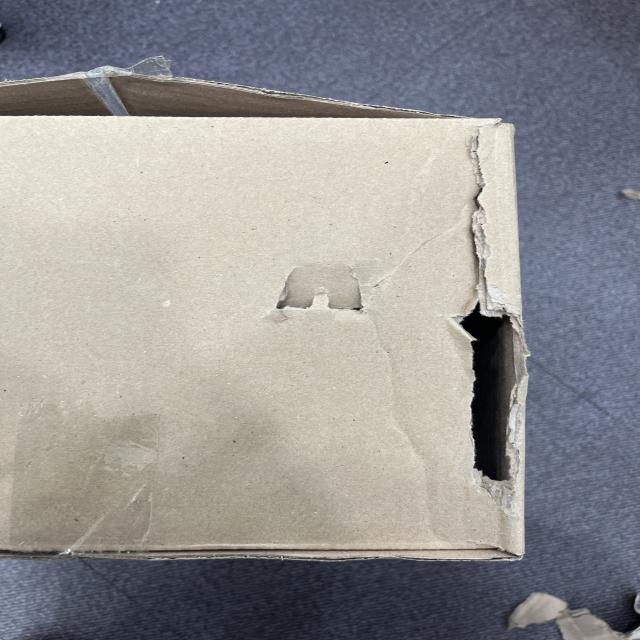hole: (449, 299, 519, 486), (268, 244, 384, 337)
